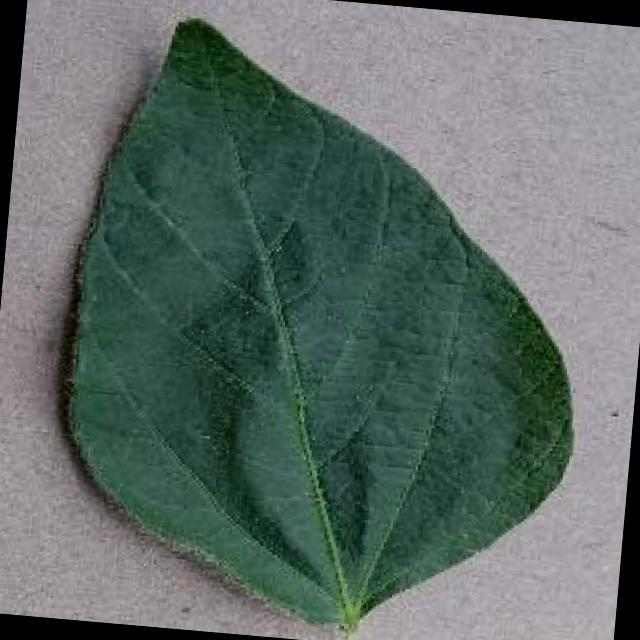healthy: (75, 24, 573, 626)
